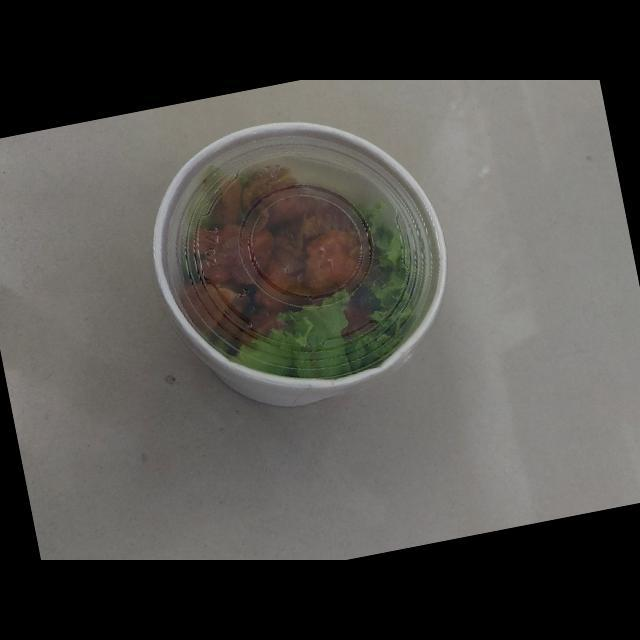rice-bowl: (117, 82, 484, 453)
